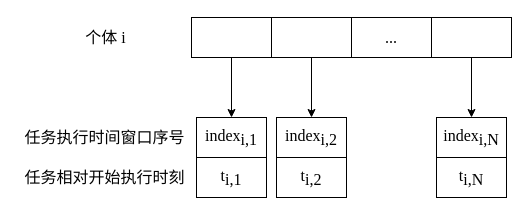
Image size: 529x215. Some labels were removed from this diagram. The shapes that lost their labels are listed below. From the top down, each one's box as (x1, y1, x2, y2) in pixels, then its label:
(190, 16, 272, 58): gene 1
(270, 16, 352, 58): gene 2
(430, 16, 512, 58): gene N
